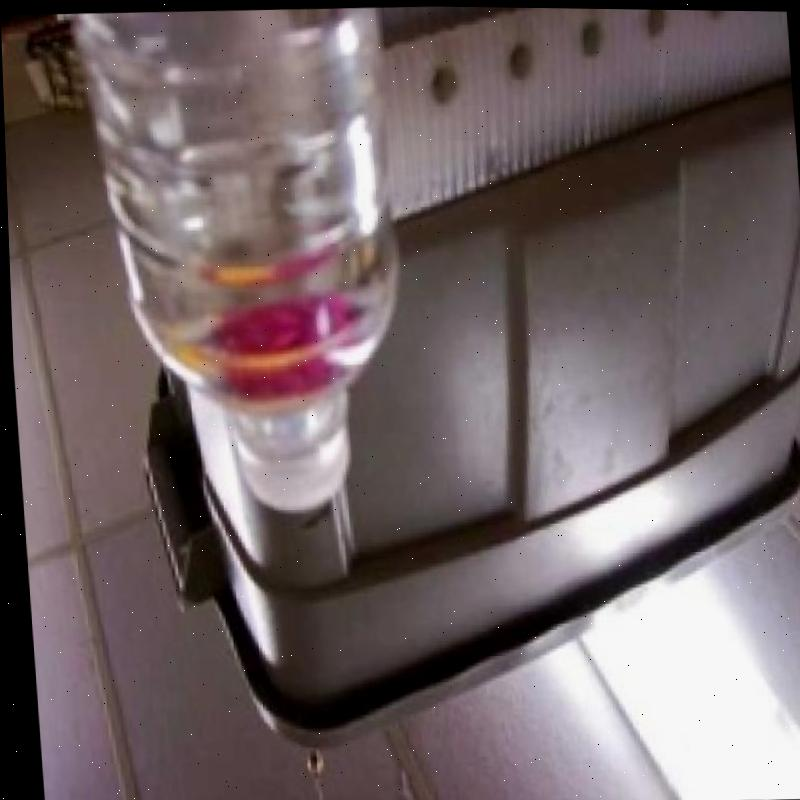botella: (93, 2, 412, 513)
